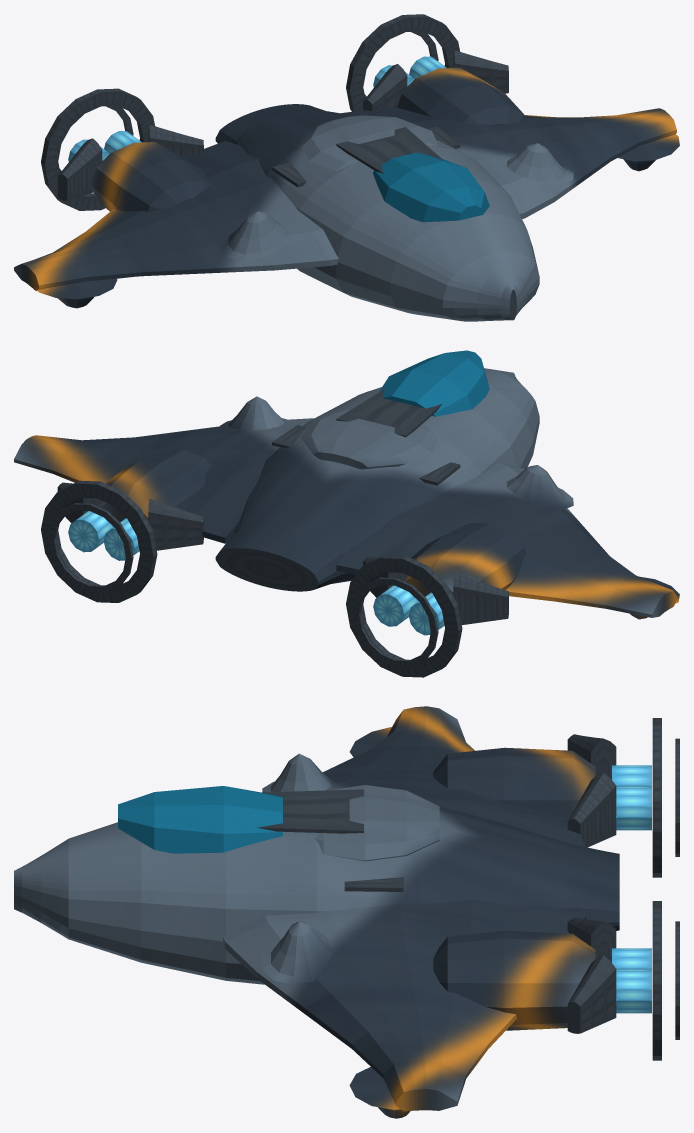
File: spaceship_player.obj
3 renders of one model, top to bottom at view 1: azimuth 30°, elevation 25°; view 2: azimuth 150°, elevation 25°; view 3: azimuth 270°, elevation 25°, orthographic. The views are drawn at different scales.
Parts seen in each view (by area): view 1: spaceship_player; view 2: spaceship_player; view 3: spaceship_player.
Boxes of the visible parts, x1,y1,x2,y2 form: spaceship_player: [14, 14, 679, 321]; spaceship_player: [14, 350, 679, 677]; spaceship_player: [14, 706, 679, 1118].
Bounding box in the file's own units: 7.42 × 1.52 × 5.44.
Materials: 1 (1 with a texture image).
